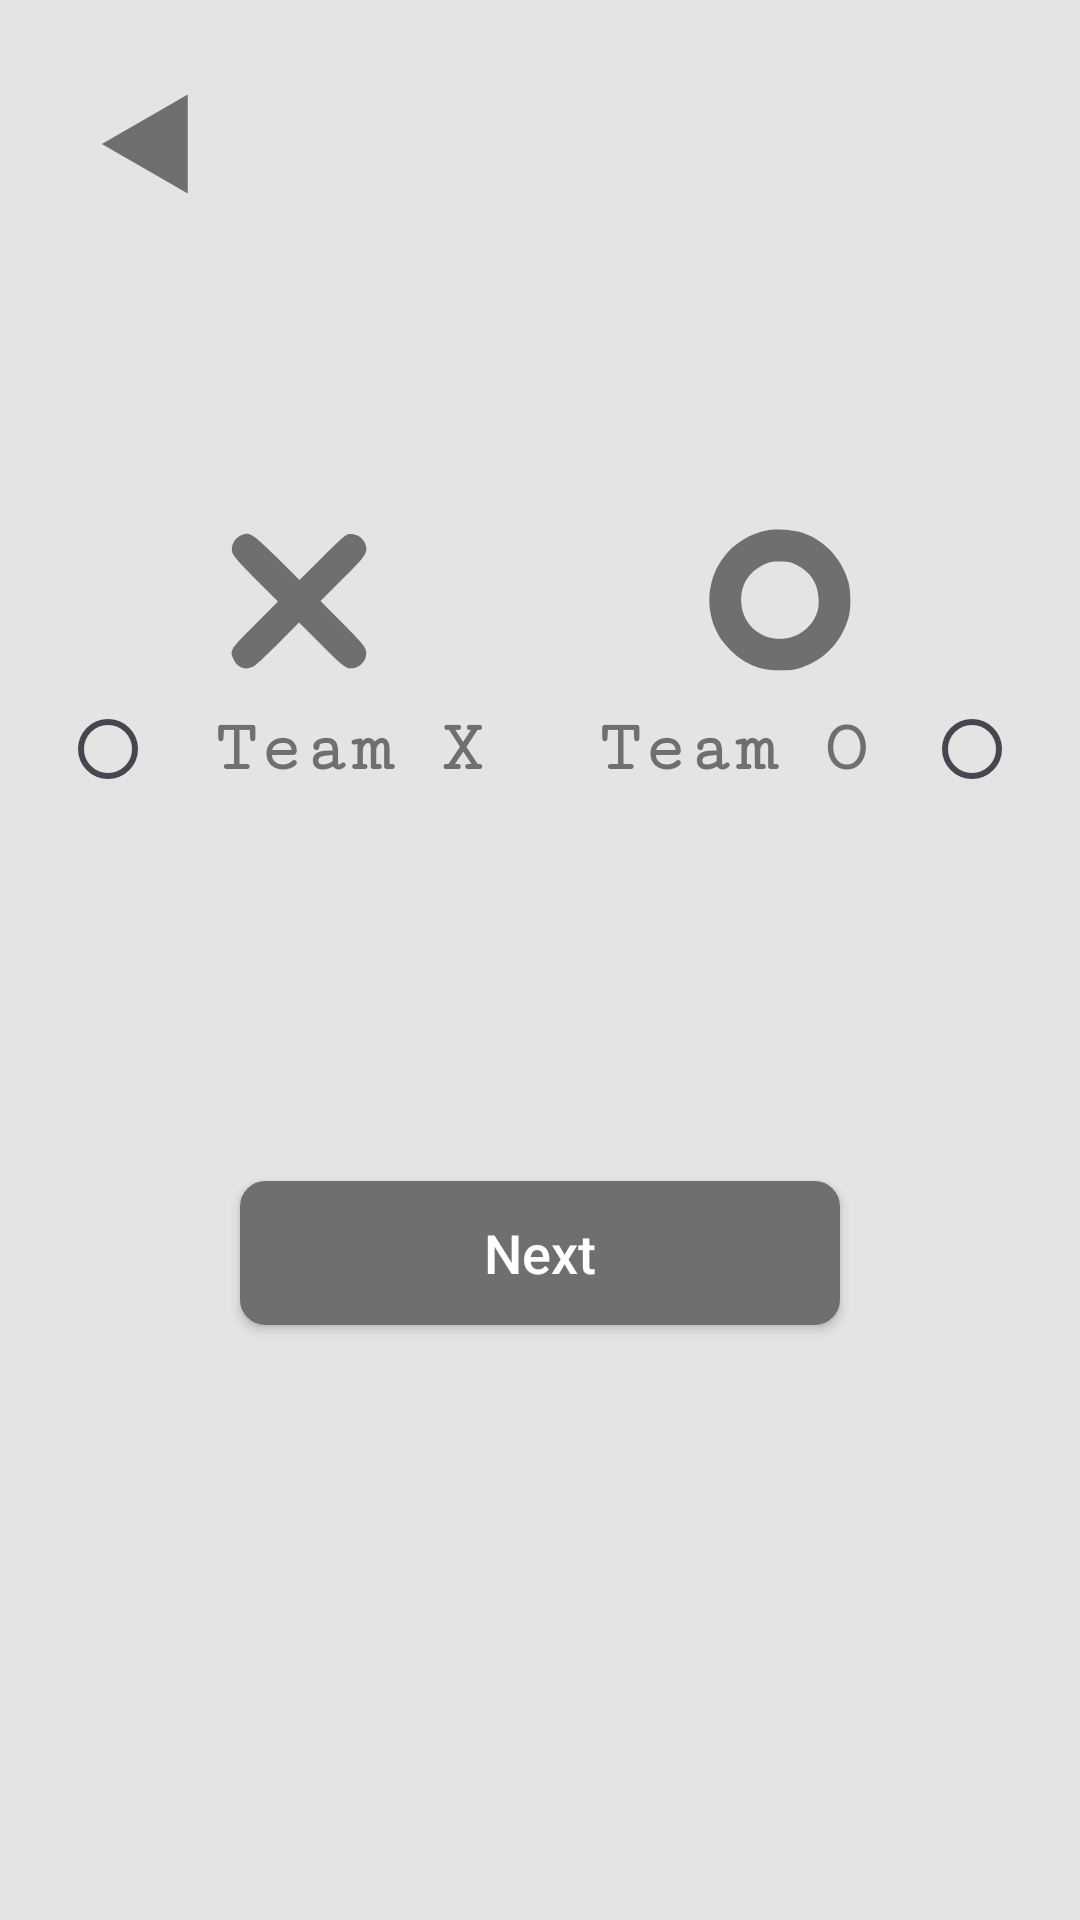

Where icons sit on this 1080w x 1920h app screen, as (x1, y1, x2, y2):
back: (102, 94, 188, 194)
